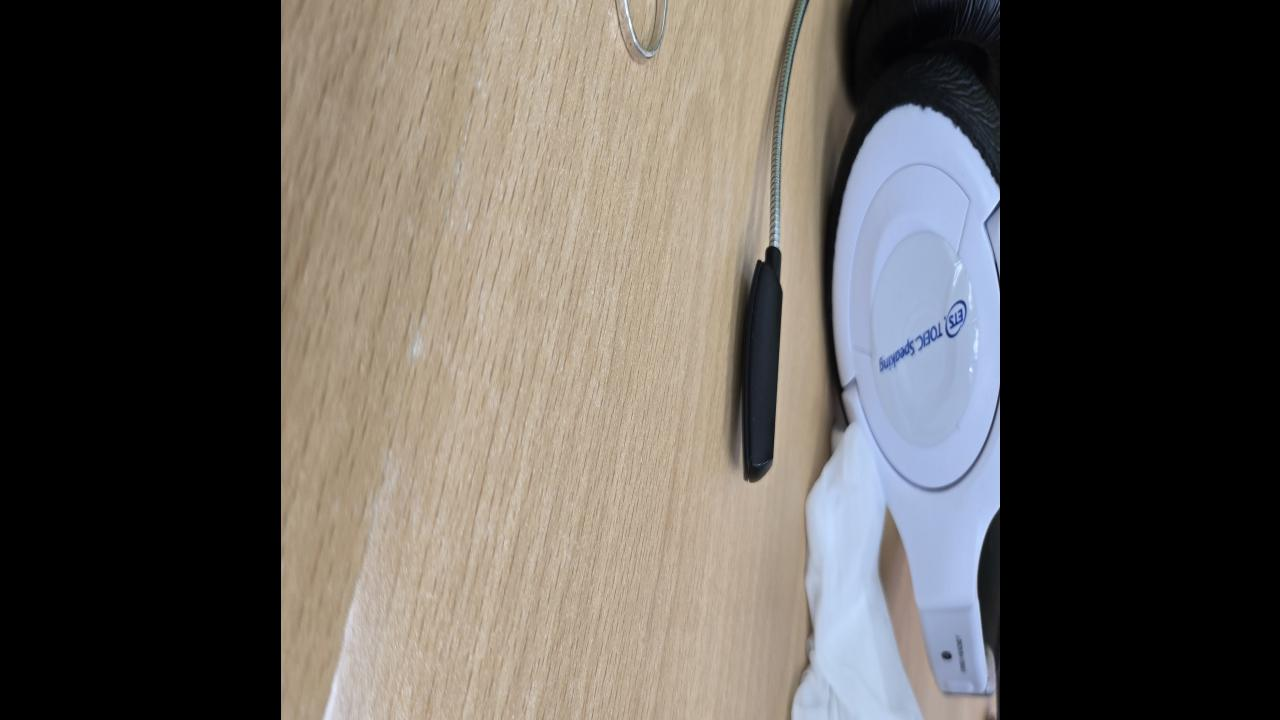ring: (610, 0, 667, 69)
